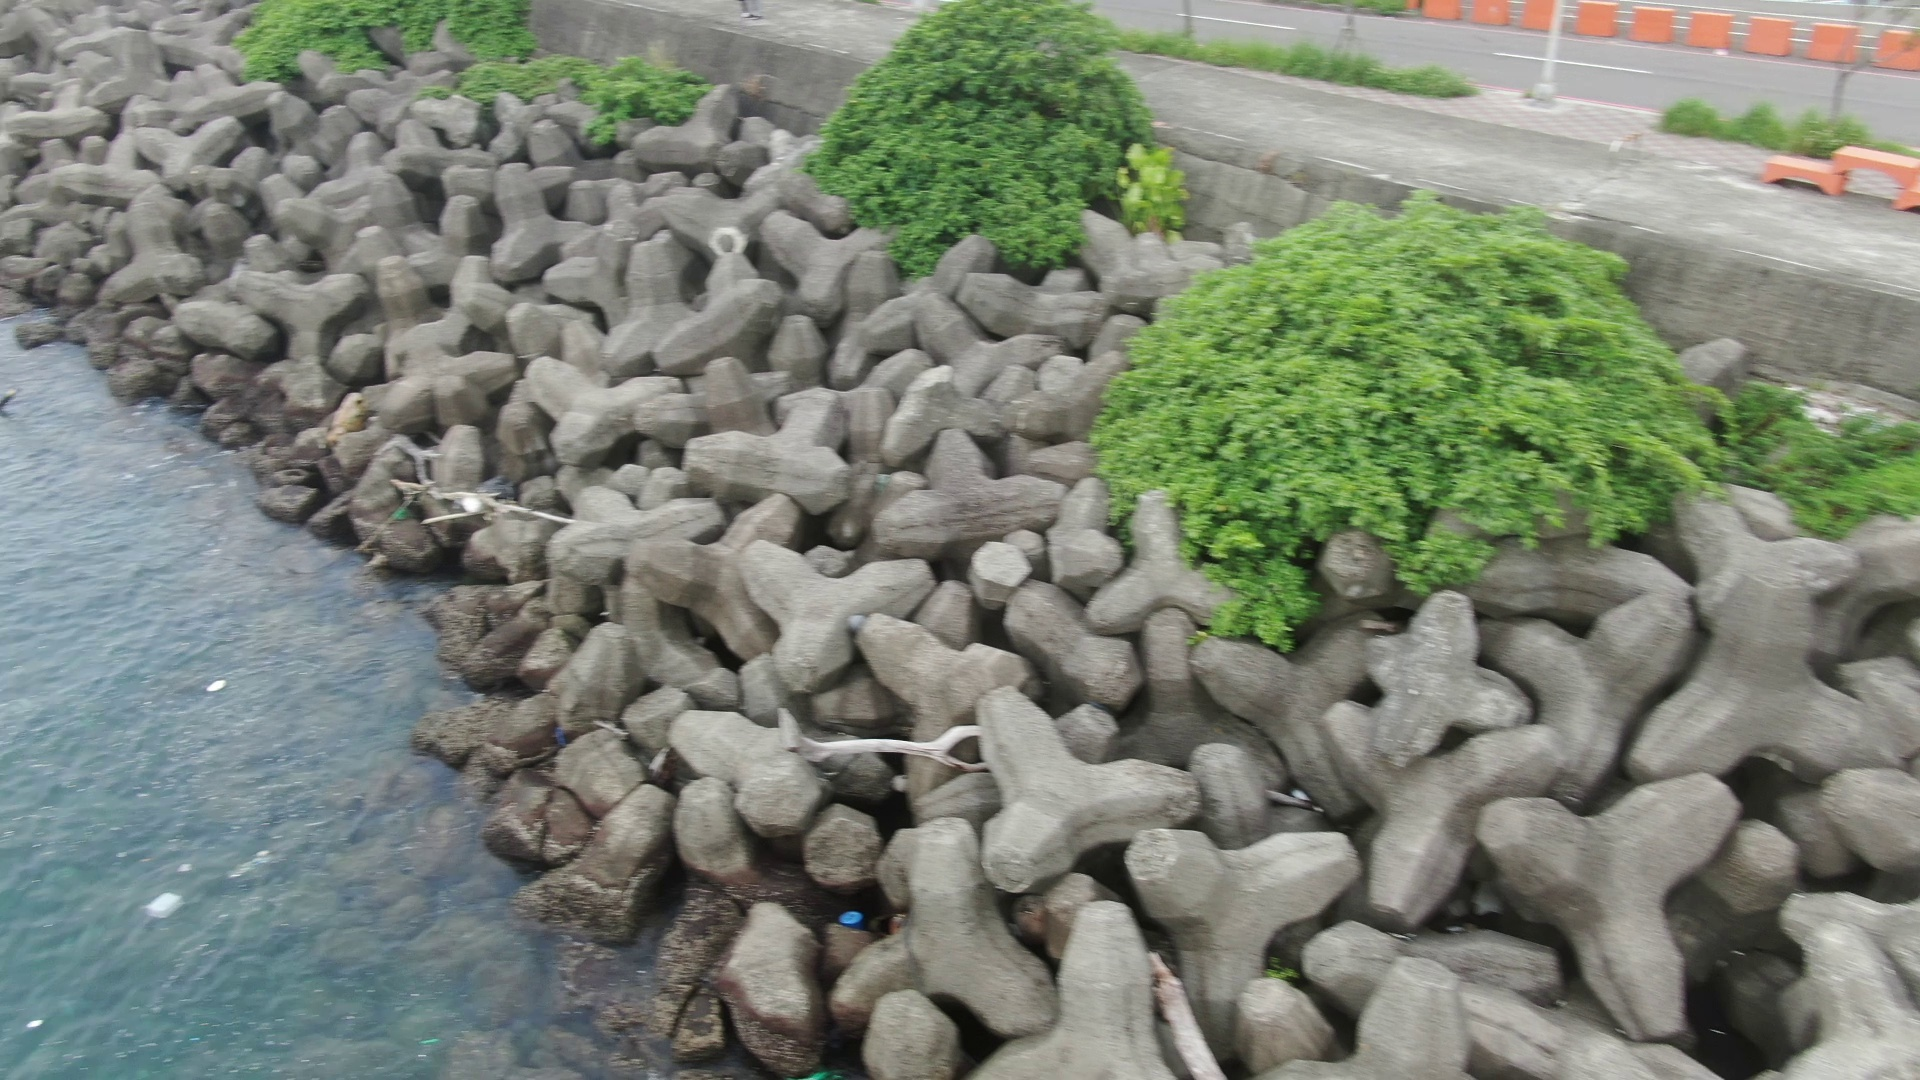garbage: (396, 469, 524, 531), (141, 881, 193, 938), (836, 901, 861, 931)
